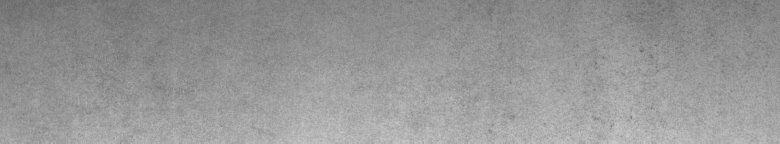ib: (581, 45, 656, 127)
